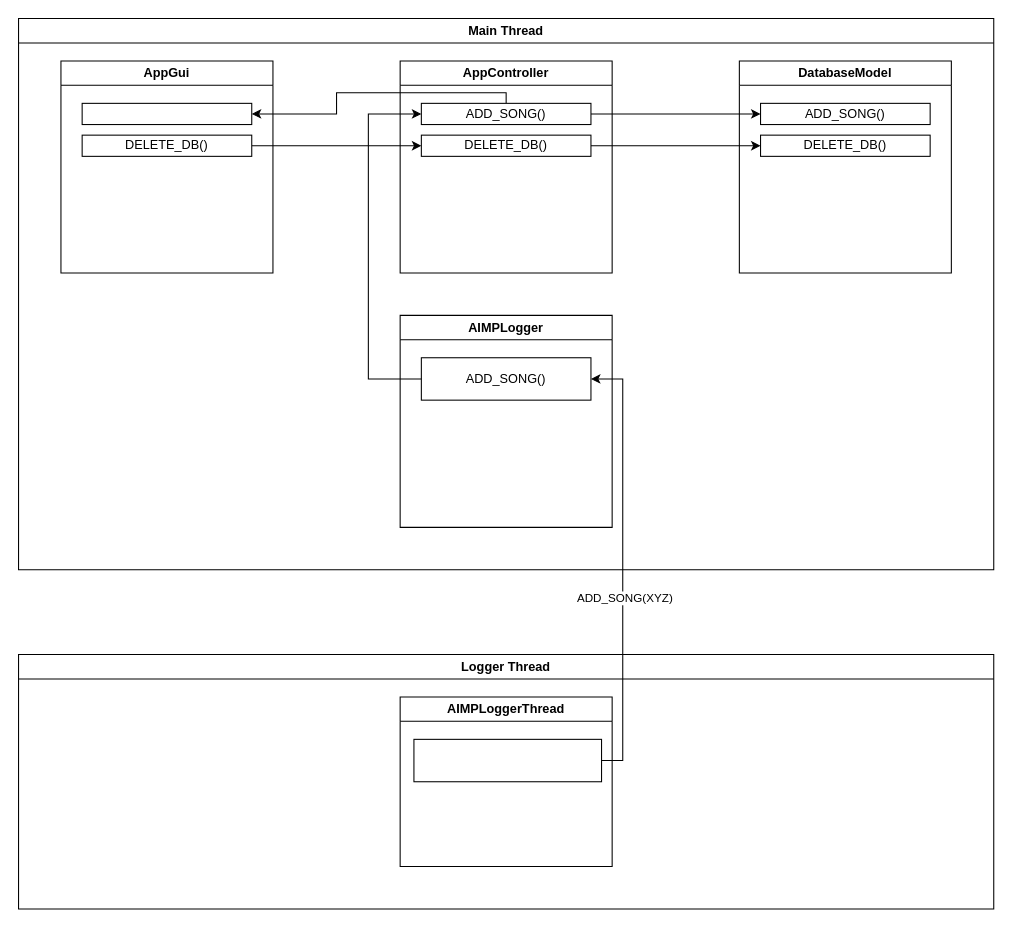
The diagram is 1012 pixels wide and 927 high, and some of its shapes have lost their labels. The shapes that lost their labels are listed below. From the top down, each one's centre as x and y in pixels, then its label:
the point at 166,113: UPDATE_UI()
the point at 507,760: Loop
